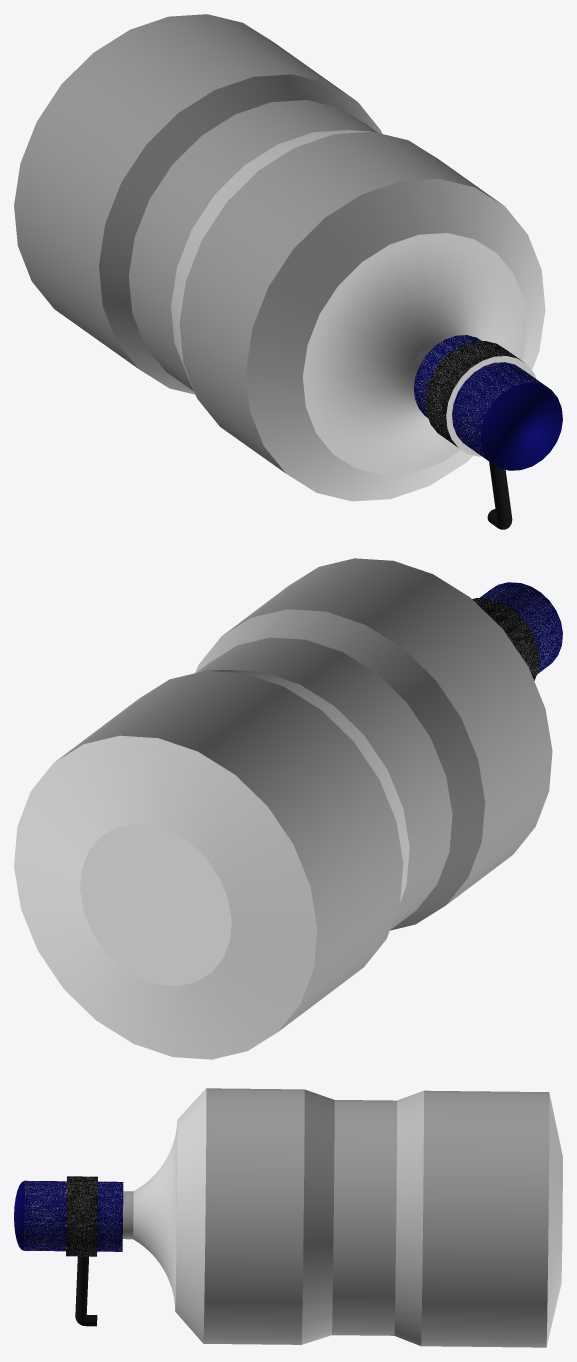
Rendered from model_align.obj.
3 renders of one model, top to bottom at view 1: azimuth 30°, elevation 25°; view 2: azimuth 150°, elevation 25°; view 3: azimuth 270°, elevation 25°, orthographic. The views are drawn at different scales.
Visible parts, largest first — view 1: mesh16_mesh16-geometry, mesh5_mesh5-geometry, mesh4_mesh4-geometry, mesh1_mesh1-geometry; view 2: mesh16_mesh16-geometry, mesh5_mesh5-geometry; view 3: mesh16_mesh16-geometry, mesh5_mesh5-geometry, mesh1_mesh1-geometry, mesh4_mesh4-geometry.
Boxes of the visible parts, x1,y1,x2,y2 form: mesh16_mesh16-geometry: (14, 14, 545, 501); mesh5_mesh5-geometry: (413, 335, 548, 462); mesh4_mesh4-geometry: (480, 382, 562, 470); mesh1_mesh1-geometry: (487, 461, 512, 529); mesh16_mesh16-geometry: (14, 558, 552, 1059); mesh5_mesh5-geometry: (472, 582, 562, 680); mesh16_mesh16-geometry: (122, 1088, 562, 1347); mesh5_mesh5-geometry: (23, 1176, 123, 1256); mesh1_mesh1-geometry: (75, 1256, 97, 1326); mesh4_mesh4-geometry: (14, 1181, 24, 1250).
Bounding box in the file's own units: 0.0779 × 0.0792 × 0.1673.
